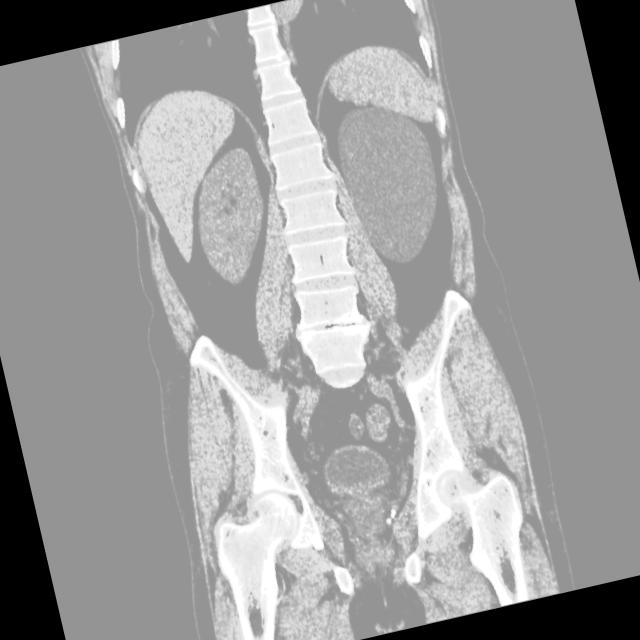cysts: (67, 0, 573, 640)
